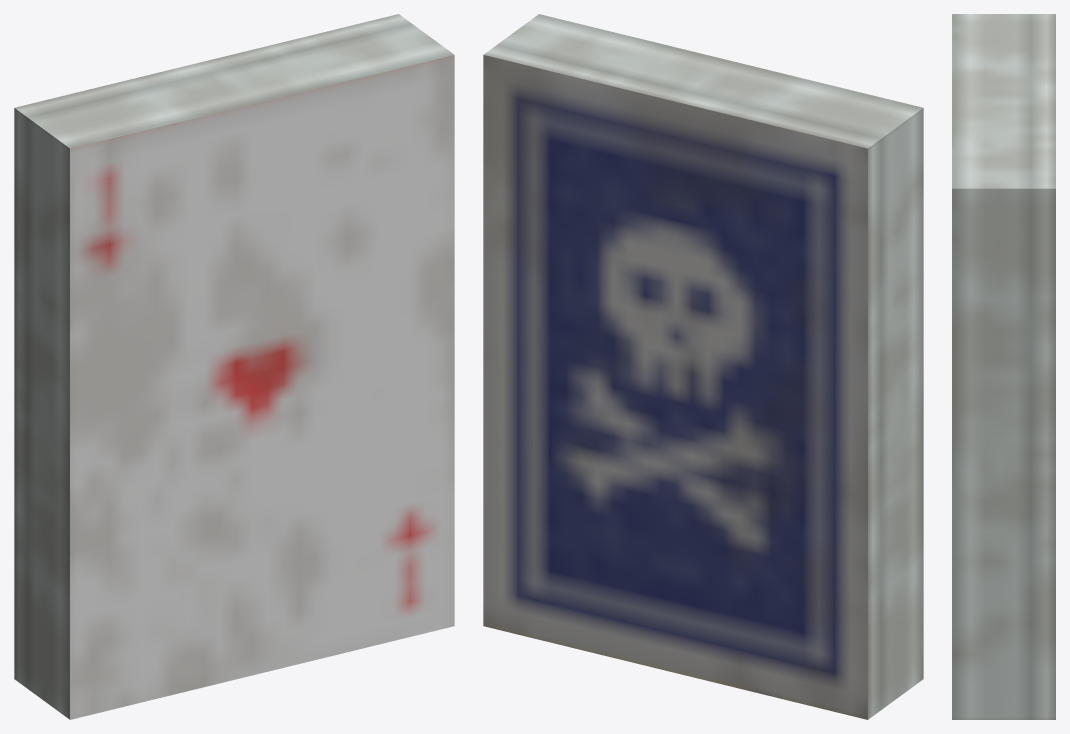
File: Card_Pack_B.fbx
3 views of the same model, side by side, from view 1: azimuth 30°, elevation 25°; view 2: azimuth 150°, elevation 25°; view 3: azimuth 270°, elevation 25° (orthographic). The views are drawn at different scales.
Visible parts, largest first — view 1: Card_Pack_B; view 2: Card_Pack_B; view 3: Card_Pack_B.
Boxes of the visible parts, bbox=[...] form: Card_Pack_B: bbox=[14, 14, 454, 719]; Card_Pack_B: bbox=[483, 14, 923, 719]; Card_Pack_B: bbox=[952, 14, 1055, 719].
Bounding box in the file's own units: 0.1848 × 0.2624 × 0.0464.
